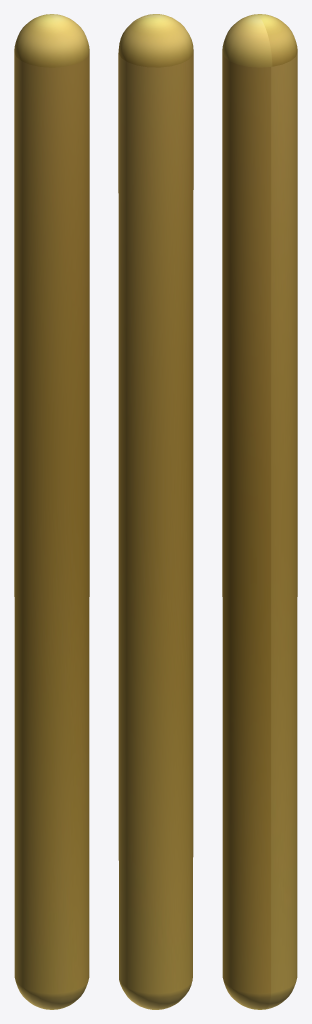
Rendered from Tubes.fbx.
3 renders of one model, left to right at view 1: azimuth 90°, elevation 25°; view 2: azimuth 150°, elevation 25°; view 3: azimuth 270°, elevation 25°, orthographic.
Parts seen in each view (by area): view 1: Tubes; view 2: Tubes; view 3: Tubes.
Boxes of the visible parts, left/top/right/bottom form: Tubes: left=14, top=14, right=89, bottom=1009; Tubes: left=118, top=14, right=193, bottom=1009; Tubes: left=222, top=14, right=297, bottom=1009.
Bounding box in the file's own units: 2 × 28.89 × 2.
1 material, 1 textured.
